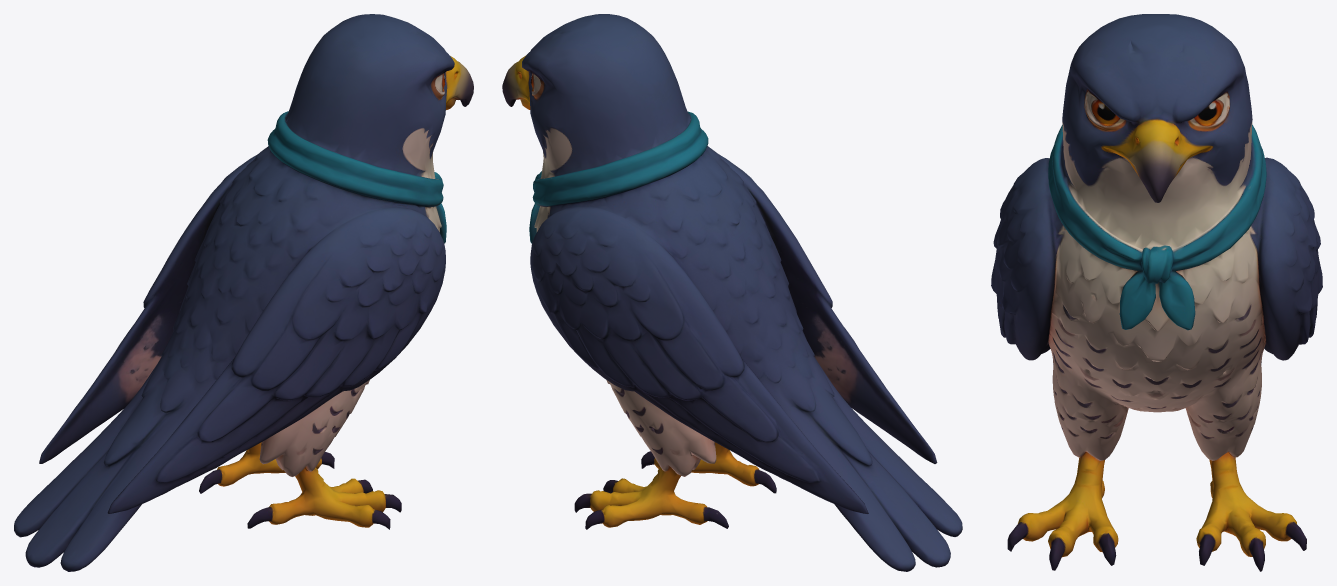
Rendered from saqr.glb.
3 renders of one model, left to right at view 1: azimuth 30°, elevation 25°; view 2: azimuth 150°, elevation 25°; view 3: azimuth 270°, elevation 25°, orthographic. The views are drawn at different scales.
Parts seen in each view (by area): view 1: tripo_node_616aee58-f292-46b0-990a-8c35b12386c5; view 2: tripo_node_616aee58-f292-46b0-990a-8c35b12386c5; view 3: tripo_node_616aee58-f292-46b0-990a-8c35b12386c5.
Part boxes in pixels (x1,y1,x2,y2): tripo_node_616aee58-f292-46b0-990a-8c35b12386c5: [14, 14, 473, 571]; tripo_node_616aee58-f292-46b0-990a-8c35b12386c5: [502, 14, 962, 571]; tripo_node_616aee58-f292-46b0-990a-8c35b12386c5: [991, 14, 1322, 571].
Size of the model in its own units: 1 by 0.9843 by 0.5225.
Materials: 1 (1 with a texture image).
